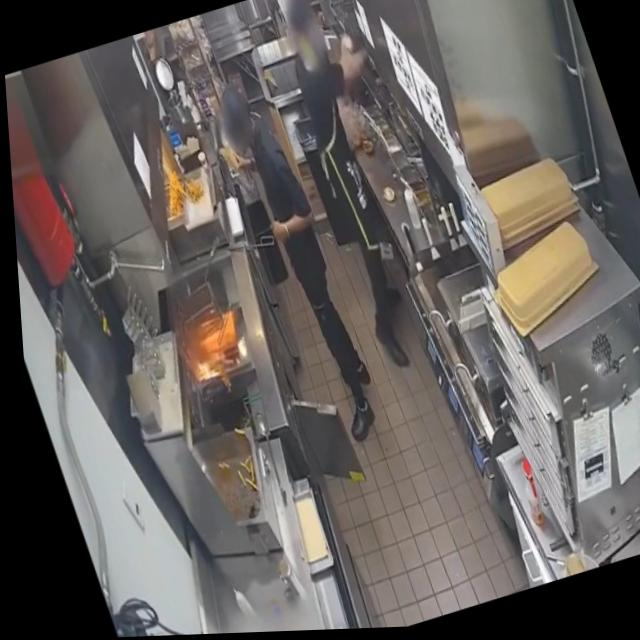fire: (182, 350, 220, 386)
